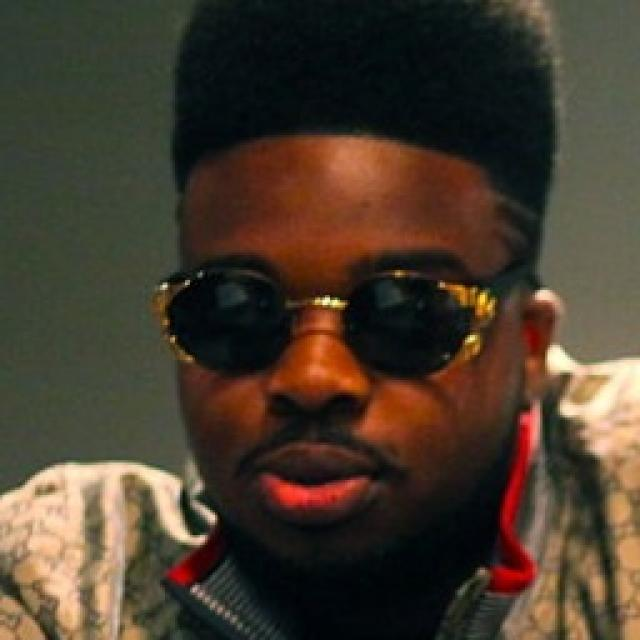glasses: (154, 248, 501, 411)
